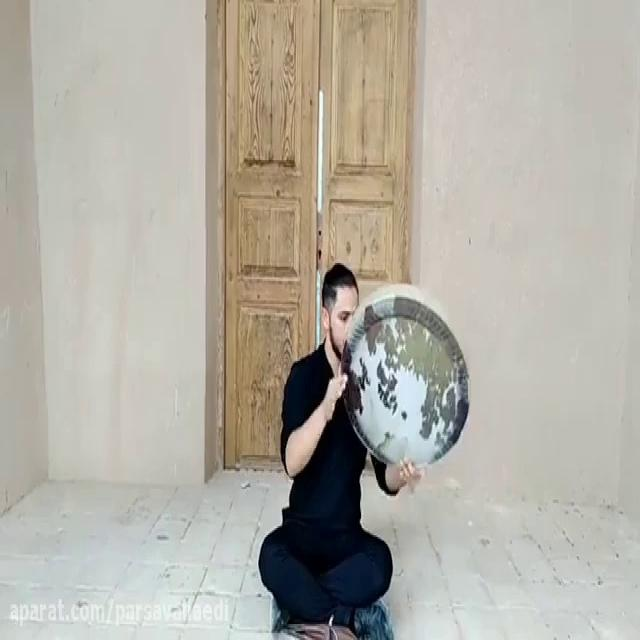Daf: (338, 282, 471, 485)
